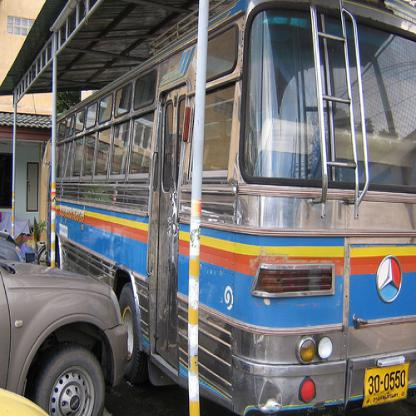bus: (46, 0, 415, 414)
car: (0, 258, 128, 415)
